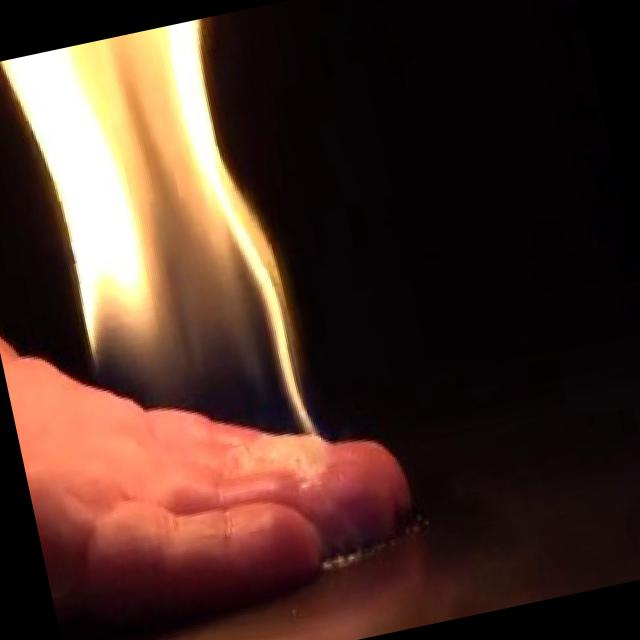Fire: (0, 10, 339, 529)
